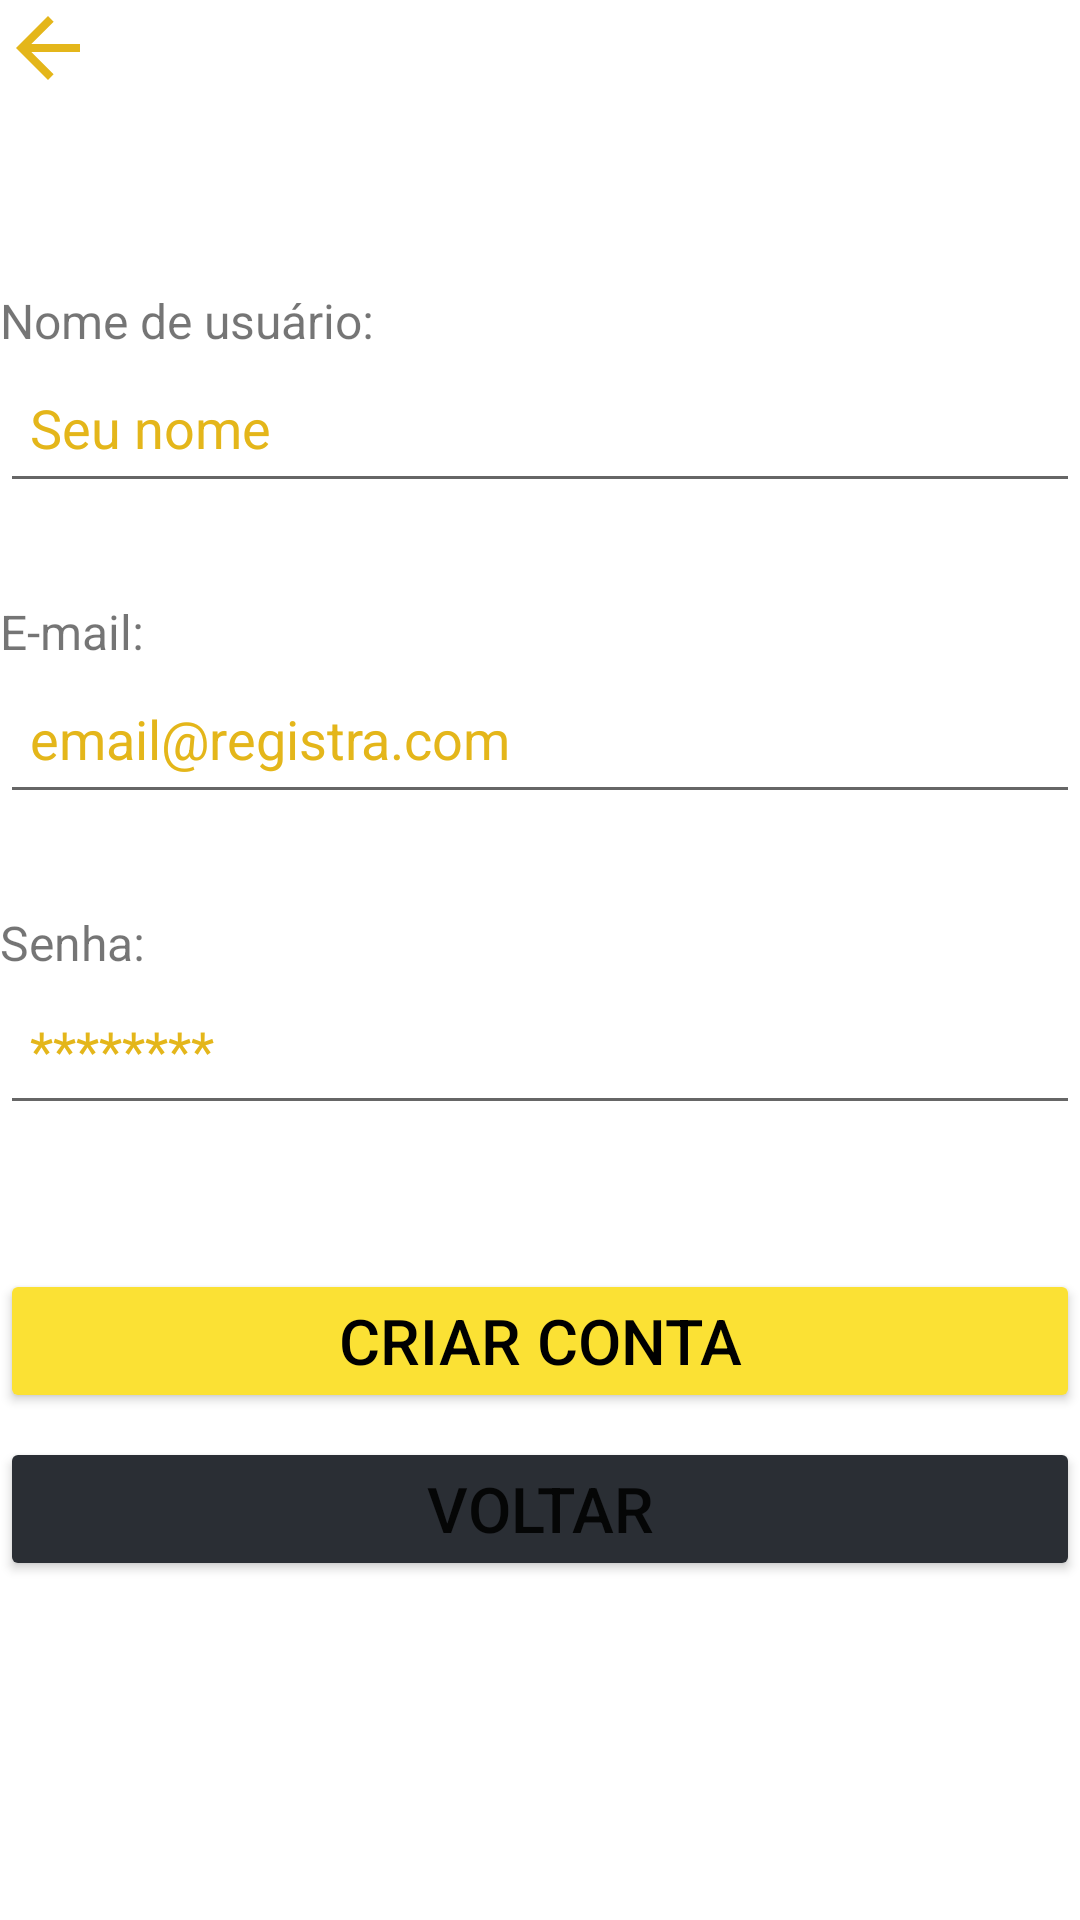

Named icons in this screenshot (1080*1920) and their bounding boxes, bbox=[x1, y1, x2, y2]:
Return to Last Screen button: bbox=[16, 16, 80, 80]
